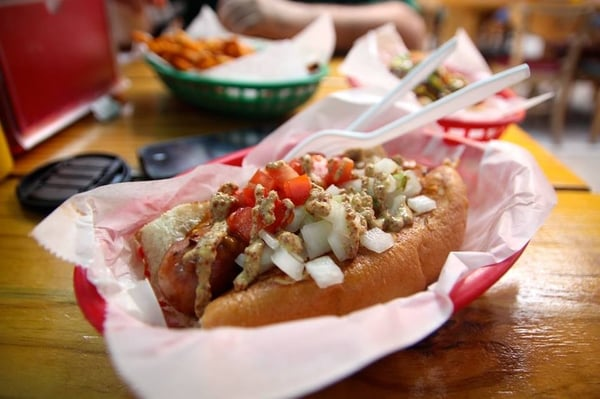sushi: (140, 31, 331, 120)
